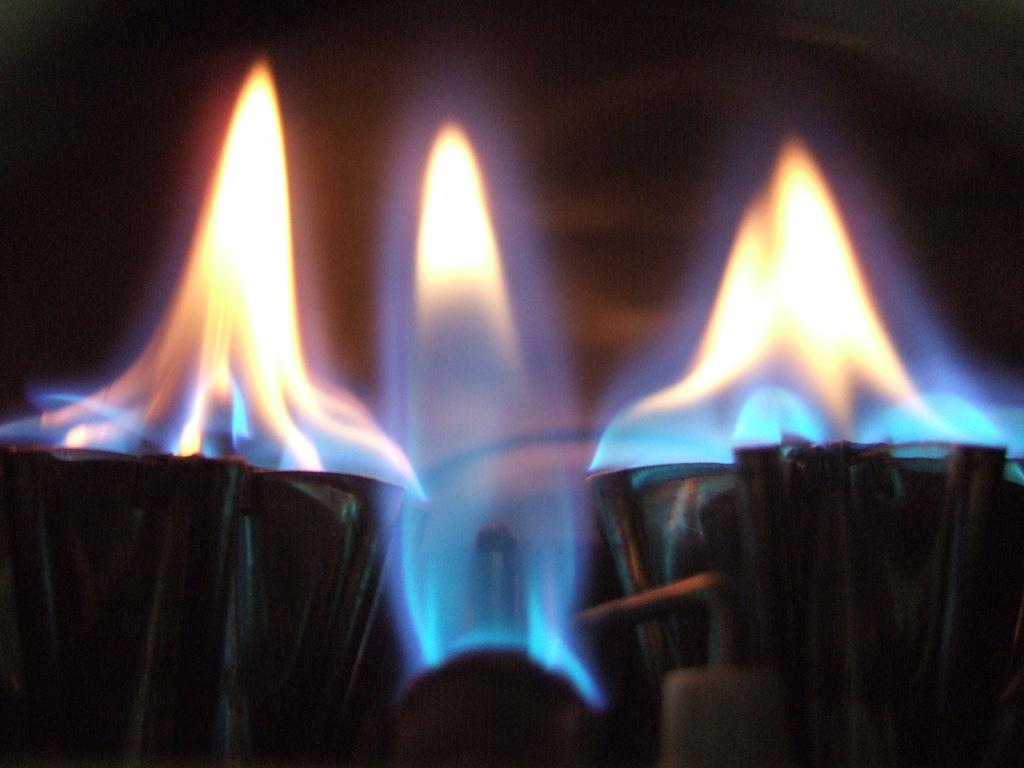fire: (404, 150, 550, 600), (184, 66, 290, 442), (718, 146, 858, 422)
